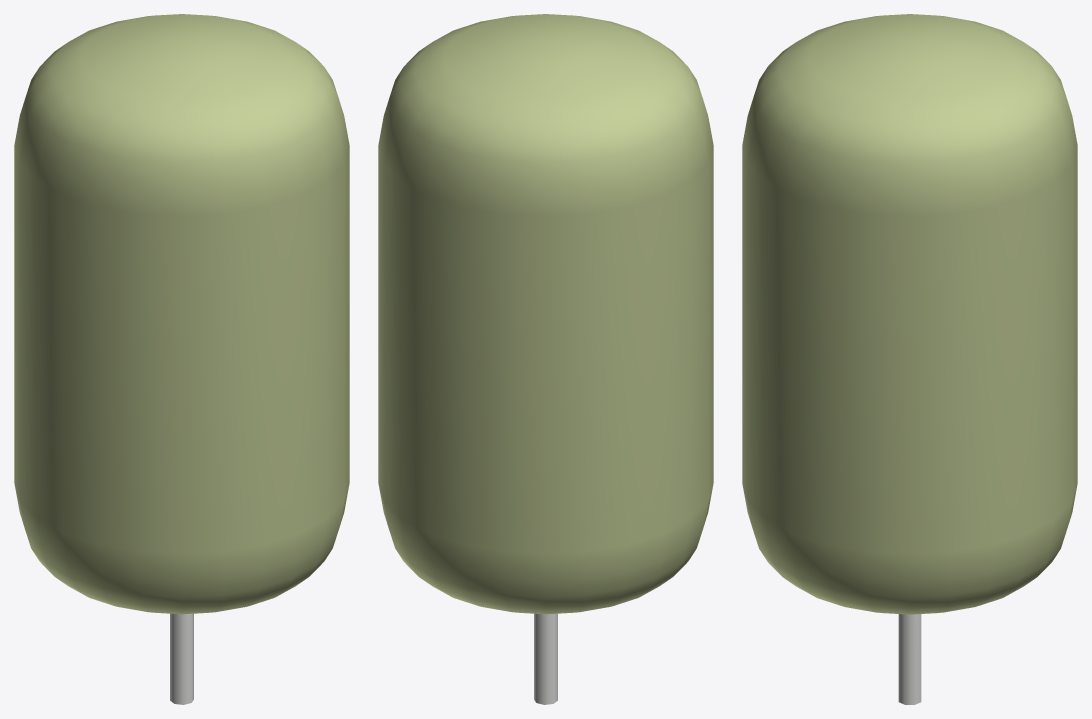
The model's file is PopulusTremuloides.glb.
The picture shows the model from 3 angles, left to right: view 1: azimuth 30°, elevation 25°; view 2: azimuth 150°, elevation 25°; view 3: azimuth 270°, elevation 25°; orthographic projection.
Parts seen in each view (by area): view 1: White_Poplar__Schematic_LOD3; view 2: White_Poplar__Schematic_LOD3; view 3: White_Poplar__Schematic_LOD3.
Boxes of the visible parts, x1,y1,x2,y2 form: White_Poplar__Schematic_LOD3: (14, 14, 349, 704); White_Poplar__Schematic_LOD3: (378, 14, 713, 704); White_Poplar__Schematic_LOD3: (742, 14, 1077, 704).
Bounding box in the file's own units: 8.5 × 18.36 × 8.5.
